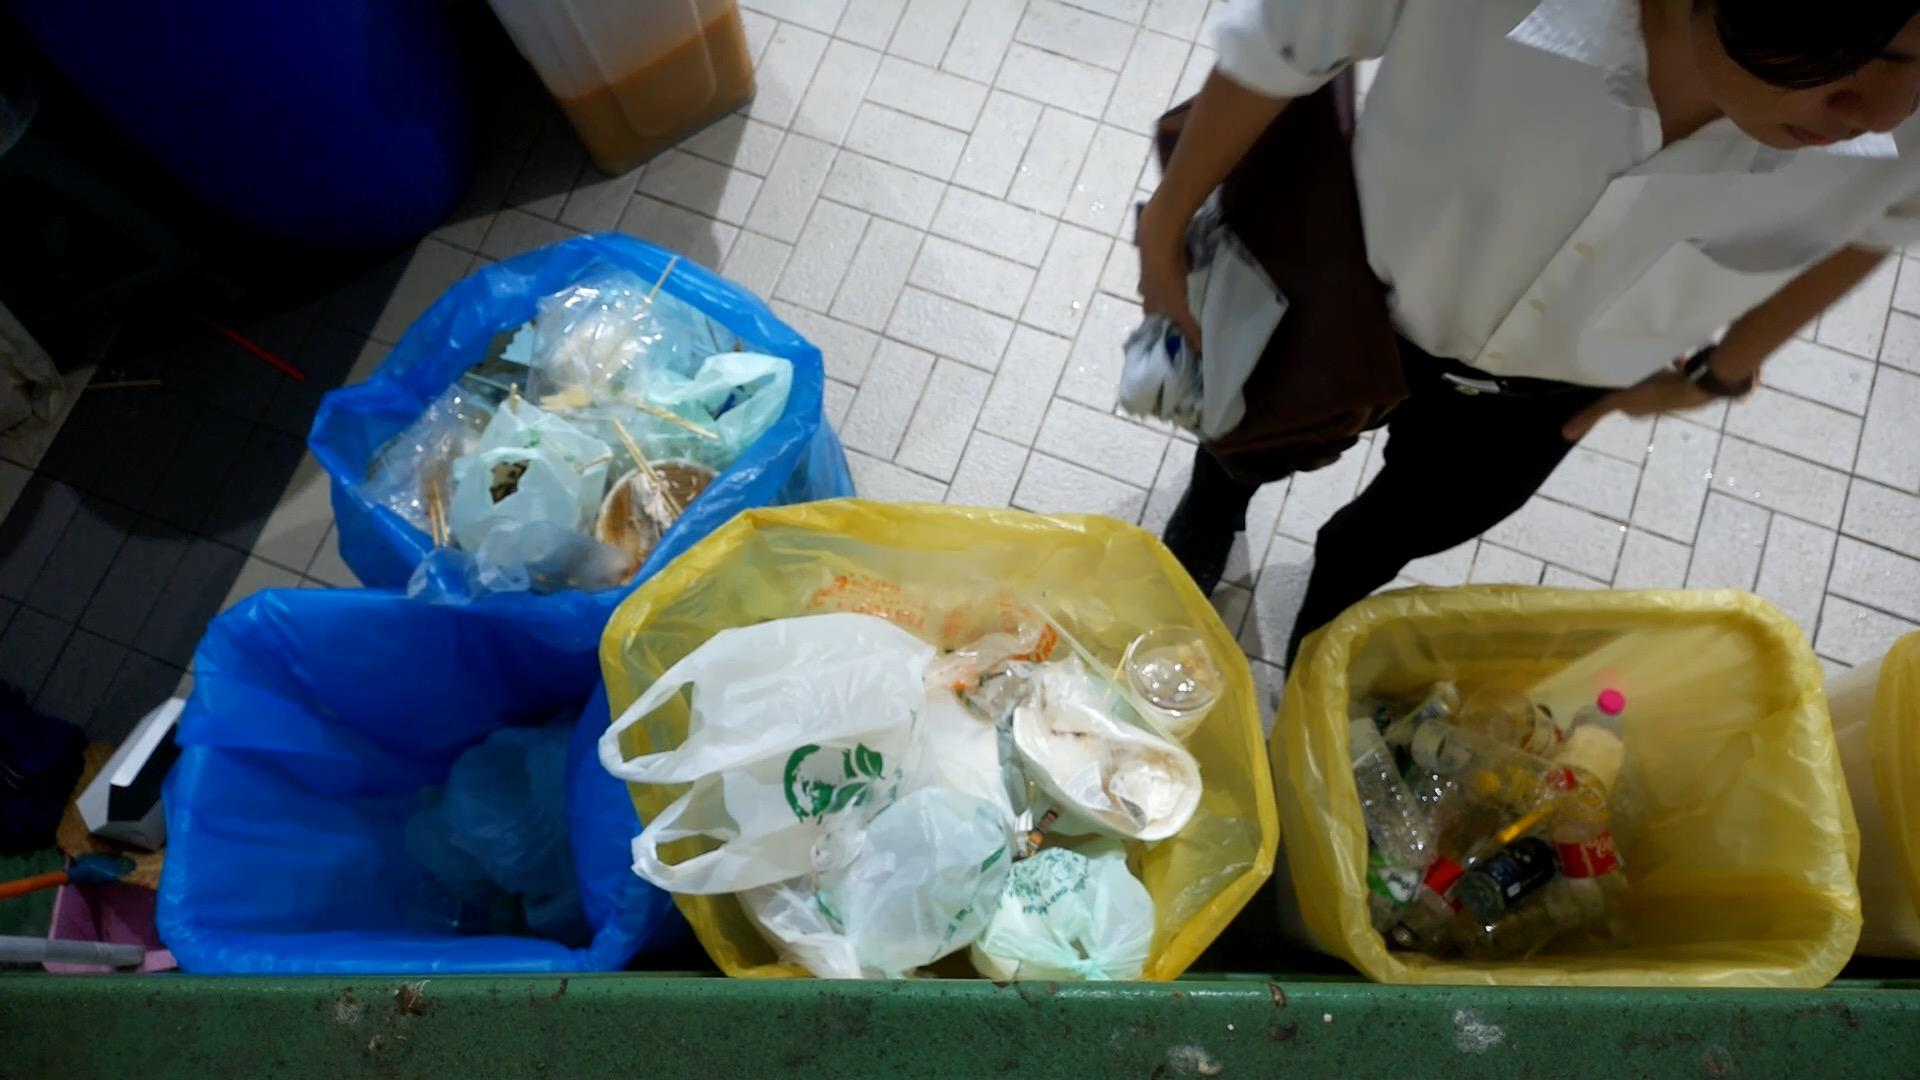can: (1456, 829, 1560, 926)
dirty food container: (591, 458, 721, 582)
filled plastic bag: (597, 605, 939, 899), (819, 733, 1021, 986), (1002, 682, 1205, 857), (964, 832, 1159, 1006), (421, 691, 585, 893), (450, 385, 607, 583)
plastic bag: (533, 266, 692, 426), (633, 338, 800, 464), (360, 396, 484, 514)
plastic bottle: (1385, 716, 1564, 816), (1552, 767, 1644, 949), (1350, 704, 1440, 870)
plastic cup: (1133, 633, 1233, 738), (1461, 675, 1556, 761)
sticks: (605, 415, 683, 509), (644, 397, 731, 444), (414, 463, 458, 535)
straw: (640, 245, 687, 302)
